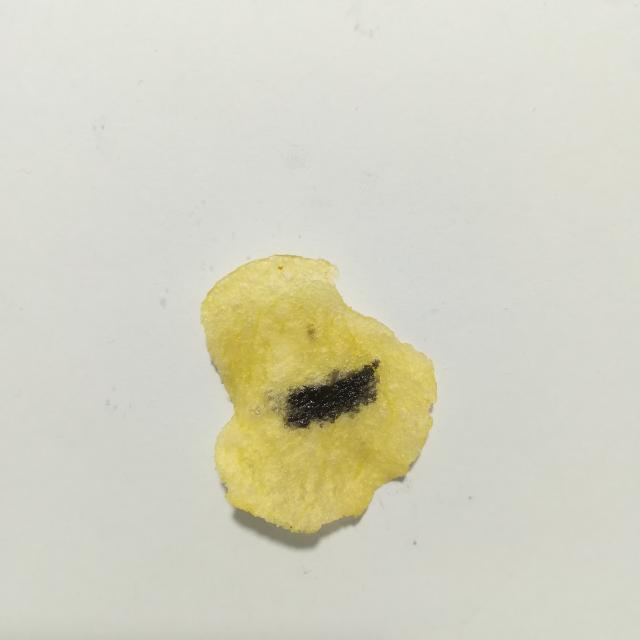chip: (201, 255, 436, 532)
damaged: (285, 360, 379, 428)
semi-damaged: (266, 368, 359, 429), (307, 325, 315, 339)
